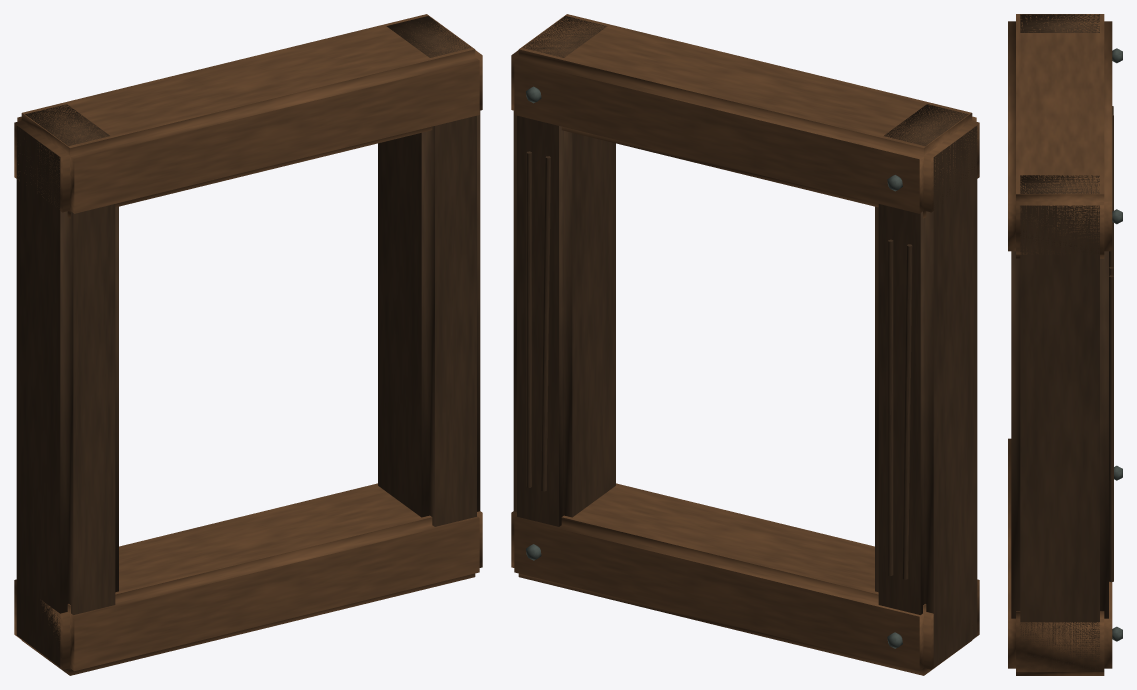
File: timber-doorframe-0.fbx
3 renders of one model, left to right at view 1: azimuth 30°, elevation 25°; view 2: azimuth 150°, elevation 25°; view 3: azimuth 270°, elevation 25°, orthographic. The views are drawn at different scales.
Visible parts, largest first — view 1: timber-doorframe-0__Geometry; view 2: timber-doorframe-0__Geometry; view 3: timber-doorframe-0__Geometry.
Part boxes in pixels (x1,y1,x2,y2): timber-doorframe-0__Geometry: (14, 14, 482, 675); timber-doorframe-0__Geometry: (511, 14, 979, 675); timber-doorframe-0__Geometry: (1008, 14, 1122, 675).
Bounding box in the file's own units: 1 × 1.2 × 0.2591.
Materials: 1 (1 with a texture image).
